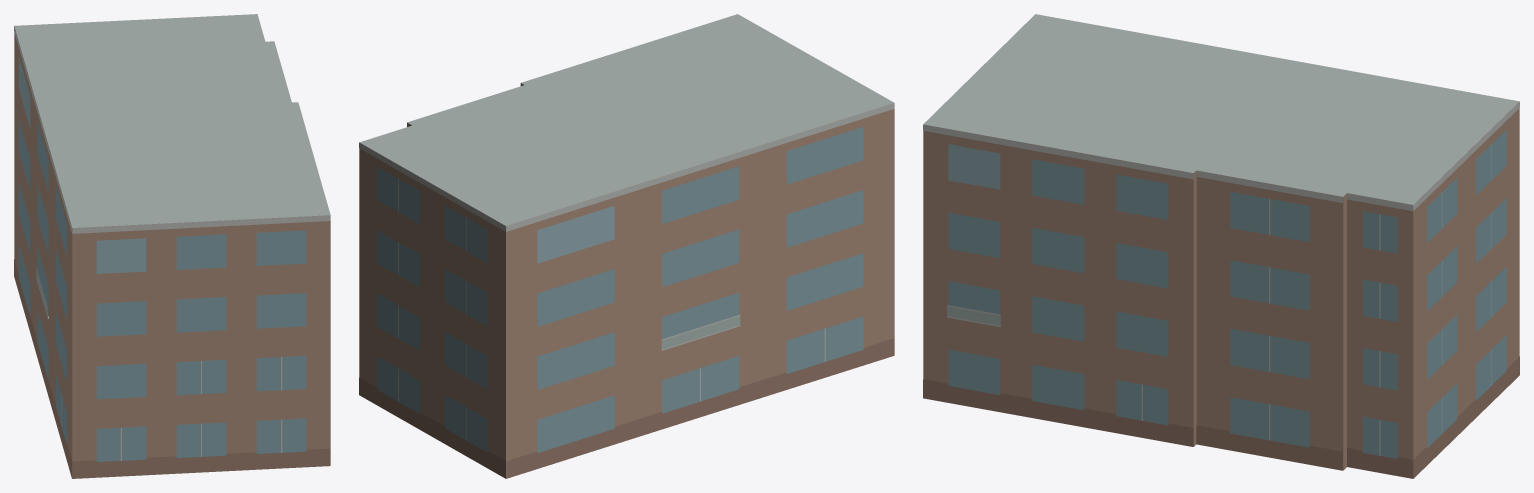
Rendered from survey-upis-32670883.glb.
3 renders of one model, left to right at view 1: azimuth 30°, elevation 25°; view 2: azimuth 150°, elevation 25°; view 3: azimuth 270°, elevation 25°, orthographic. The views are drawn at different scales.
Parts seen in each view (by area): view 1: survey-upis-32670883.tmp; view 2: survey-upis-32670883.tmp; view 3: survey-upis-32670883.tmp.
Boxes of the visible parts, x1,y1,x2,y2 form: survey-upis-32670883.tmp: (14, 14, 330, 478); survey-upis-32670883.tmp: (359, 14, 894, 478); survey-upis-32670883.tmp: (923, 14, 1519, 478).
Bounding box in the file's own units: 15.86 × 10.6 × 20.94.
